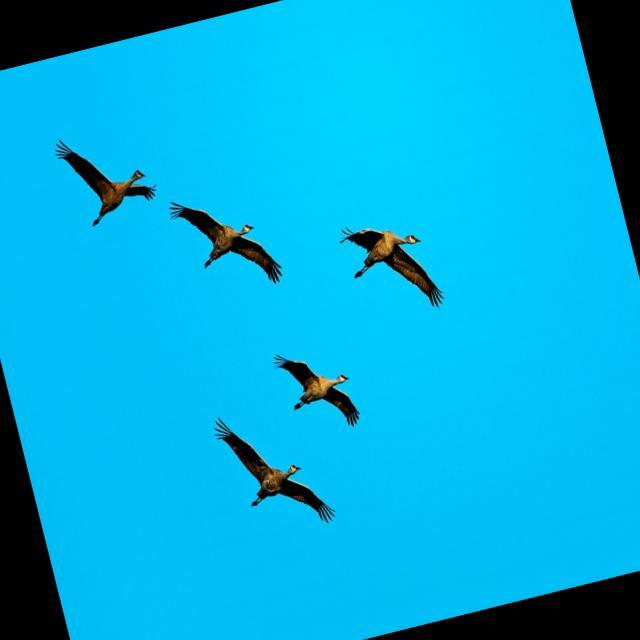bird: (206, 391, 341, 550), (163, 174, 289, 310), (47, 106, 165, 238), (333, 201, 451, 331), (267, 332, 366, 445)
